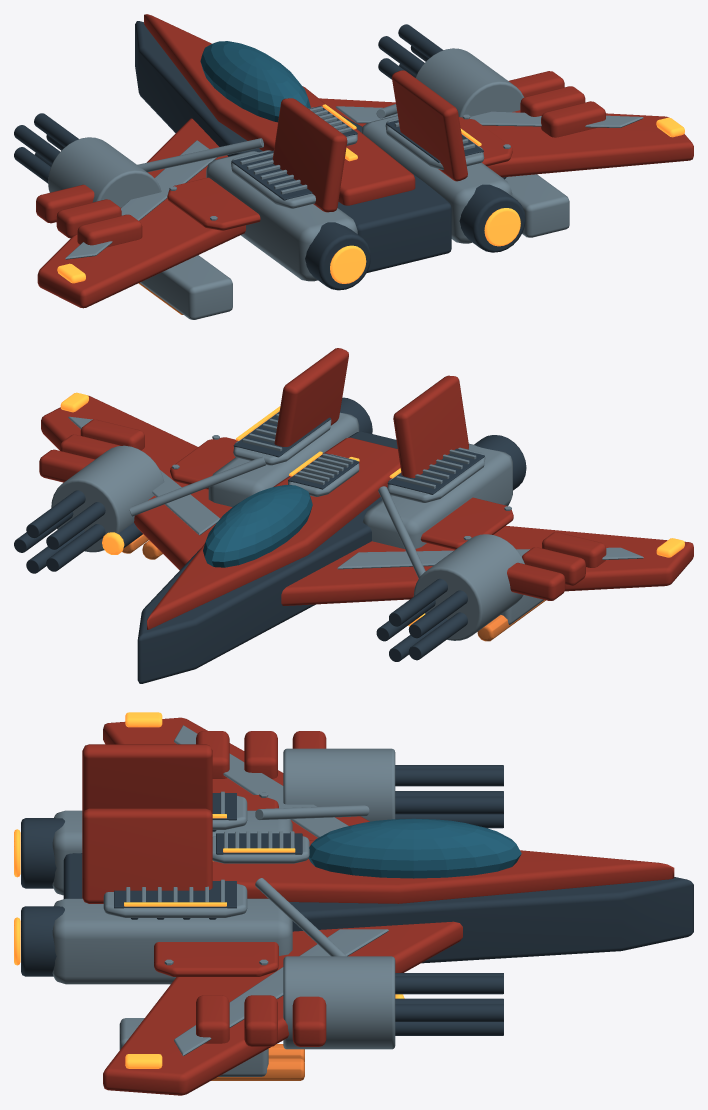
The model's file is Gunship.fbx.
3 views of the same model, one above another, from view 1: azimuth 30°, elevation 25°; view 2: azimuth 150°, elevation 25°; view 3: azimuth 270°, elevation 25° (orthographic). The views are drawn at different scales.
Visible parts, largest first — view 1: Tapered titanium fuselage.005, Swept main wing.010, Swept main wing.011, Upper ceramic spine.005, Engine nacelle.010, Vertical stabilizer.010, Smoked canopy.005, Heavy rotary mount.004, Vertical stabilizer.011, Heavy rotary mount.005, Engine nacelle.011, Missile rack.004 (+24 smaller); view 2: Tapered titanium fuselage.005, Swept main wing.010, Upper ceramic spine.005, Swept main wing.011, Heavy rotary mount.004, Smoked canopy.005, Heavy rotary mount.005, Engine nacelle.010, Vertical stabilizer.010, Vertical stabilizer.011, Engine nacelle.011, Inset service armor.233 (+31 smaller); view 3: Tapered titanium fuselage.005, Swept main wing.011, Upper ceramic spine.005, Engine nacelle.011, Vertical stabilizer.011, Smoked canopy.005, Heavy rotary mount.005, Vertical stabilizer.010, Heavy rotary mount.004, Inset service armor.235, Swept main wing.010, Wing accent.011 (+27 smaller).
Part boxes in pixels (x1,y1,x2,y2): Tapered titanium fuselage.005: [135, 21, 451, 273]; Swept main wing.010: [37, 118, 245, 308]; Swept main wing.011: [319, 98, 693, 177]; Upper ceramic spine.005: [144, 14, 415, 205]; Engine nacelle.010: [206, 151, 357, 281]; Vertical stabilizer.010: [272, 98, 347, 212]; Smoked canopy.005: [200, 41, 310, 122]; Heavy rotary mount.004: [48, 137, 161, 207]; Vertical stabilizer.011: [392, 70, 467, 181]; Heavy rotary mount.005: [415, 48, 524, 117]; Engine nacelle.011: [361, 115, 512, 243]; Missile rack.004: [140, 255, 232, 319]; Tapered titanium fuselage.005: [137, 431, 397, 683]; Swept main wing.010: [281, 526, 693, 605]; Upper ceramic spine.005: [147, 437, 400, 629]; Swept main wing.011: [41, 395, 232, 570]; Heavy rotary mount.004: [413, 534, 524, 640]; Smoked canopy.005: [203, 485, 312, 567]; Heavy rotary mount.005: [51, 445, 164, 552]; Engine nacelle.010: [362, 443, 512, 548]; Vertical stabilizer.010: [393, 375, 468, 478]; Vertical stabilizer.011: [274, 348, 348, 446]; Engine nacelle.011: [208, 412, 359, 506]; Inset service armor.233: [420, 497, 513, 549]; Tapered titanium fuselage.005: [63, 853, 693, 963]; Swept main wing.011: [103, 921, 462, 1095]; Upper ceramic spine.005: [212, 840, 674, 903]; Engine nacelle.011: [52, 898, 292, 984]; Vertical stabilizer.011: [82, 808, 212, 903]; Smoked canopy.005: [308, 818, 521, 878]; Heavy rotary mount.005: [283, 956, 395, 1049]; Vertical stabilizer.010: [82, 744, 212, 814]; Heavy rotary mount.004: [283, 748, 395, 821]; Inset service armor.235: [154, 942, 278, 976]; Swept main wing.010: [103, 717, 369, 840]; Wing accent.011: [174, 929, 388, 1056].
Bounding box in the file's own units: 459 × 118 × 365.
